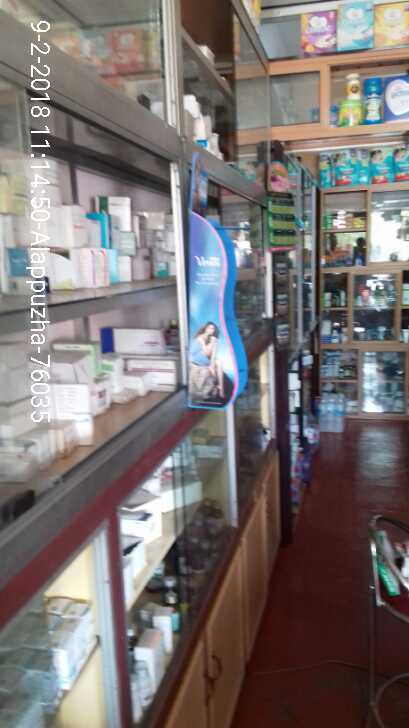reject: (167, 197, 212, 260)
